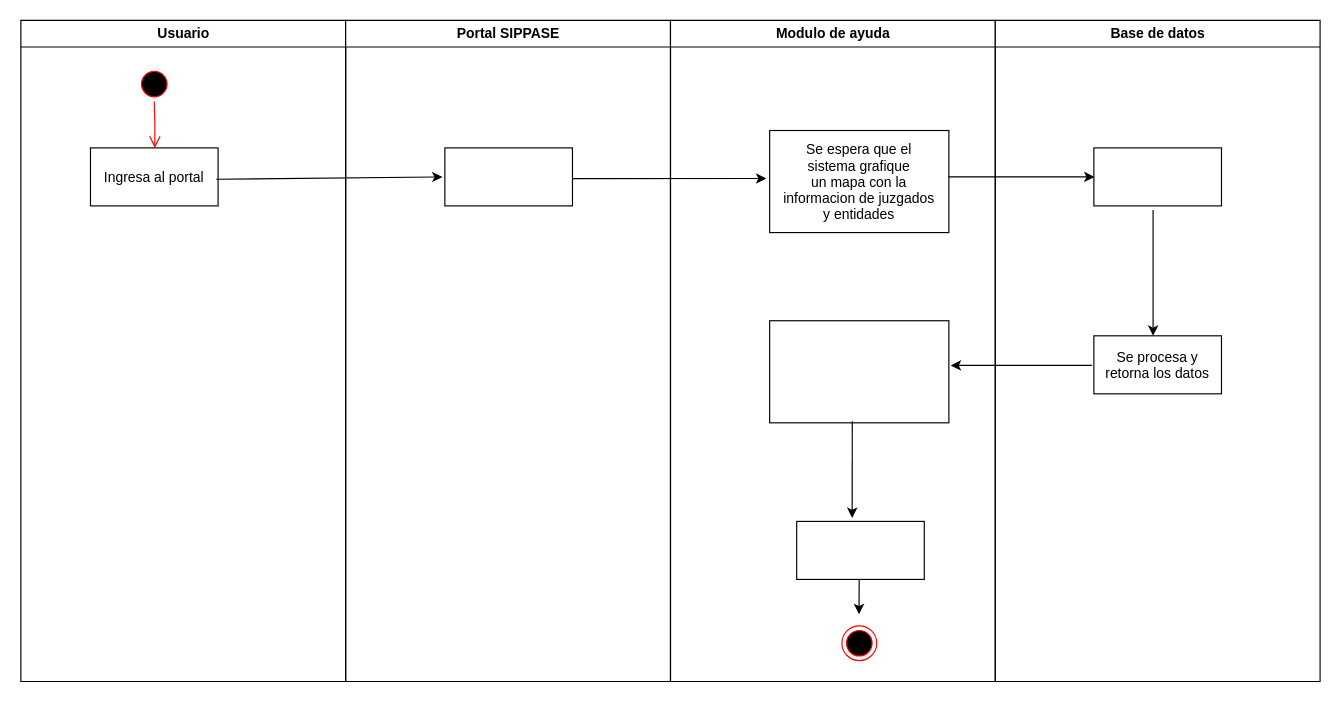
Some shapes in this 1340 by 702 pixel diagram are drawn without their labels. The centre of each missing label's shape, as x and y in pixels:
Fin del diagrama de actividad: (x=860, y=549)
ingresa a la seccion de ayuda: (x=508, y=176)
se consulta sobre las direcciones: (x=1157, y=176)
Se grafica el mapa con la información de la BD: (x=858, y=371)
